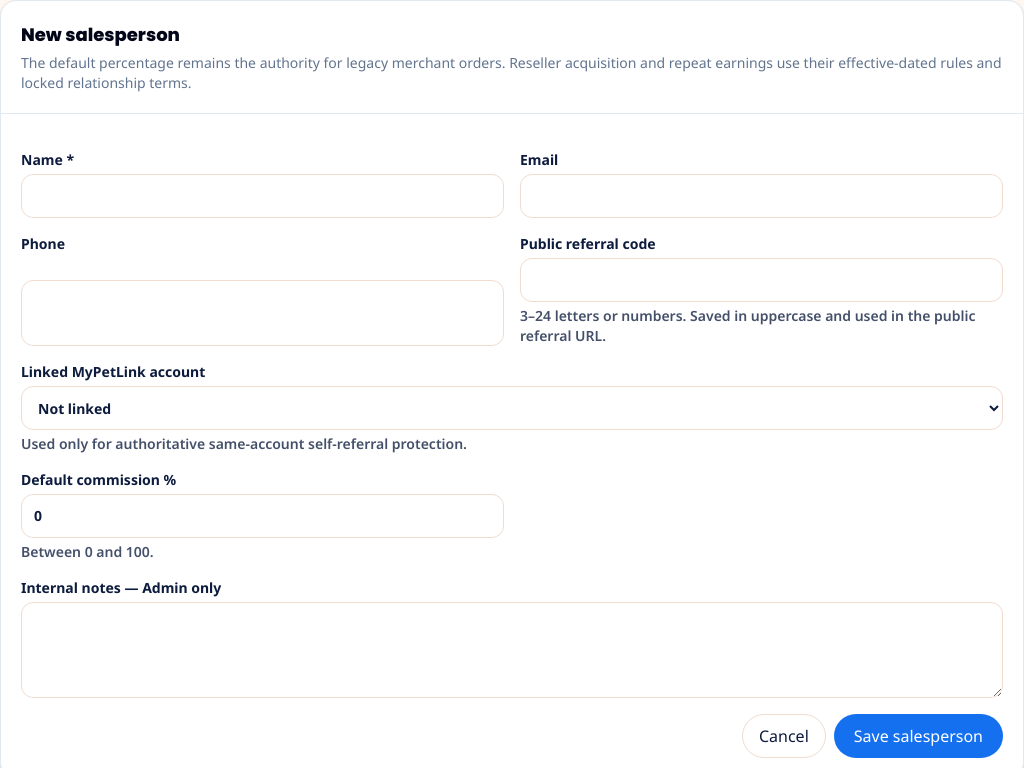
Salesperson editor › asks for the name in plain words when the server rejects it
Type "Pat Lee" into the field labelled "Name *" at (262, 196), box [21,174,504,218]
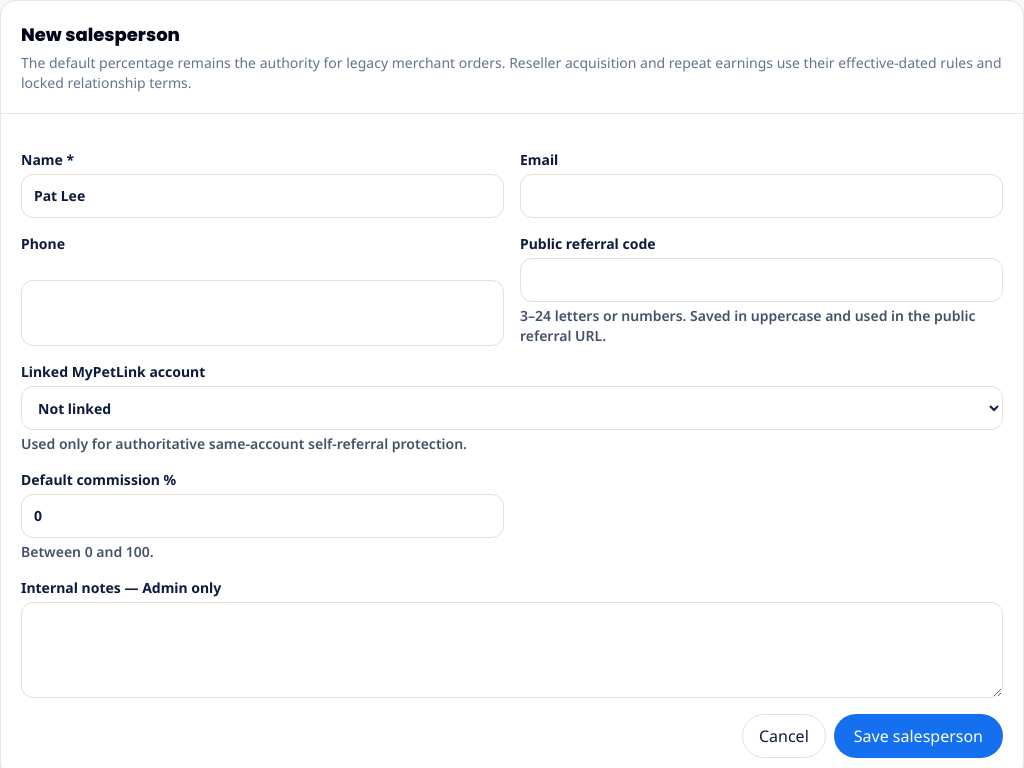
Click the button with test id "save-salesperson" at (918, 736), box [834,714,1003,758]
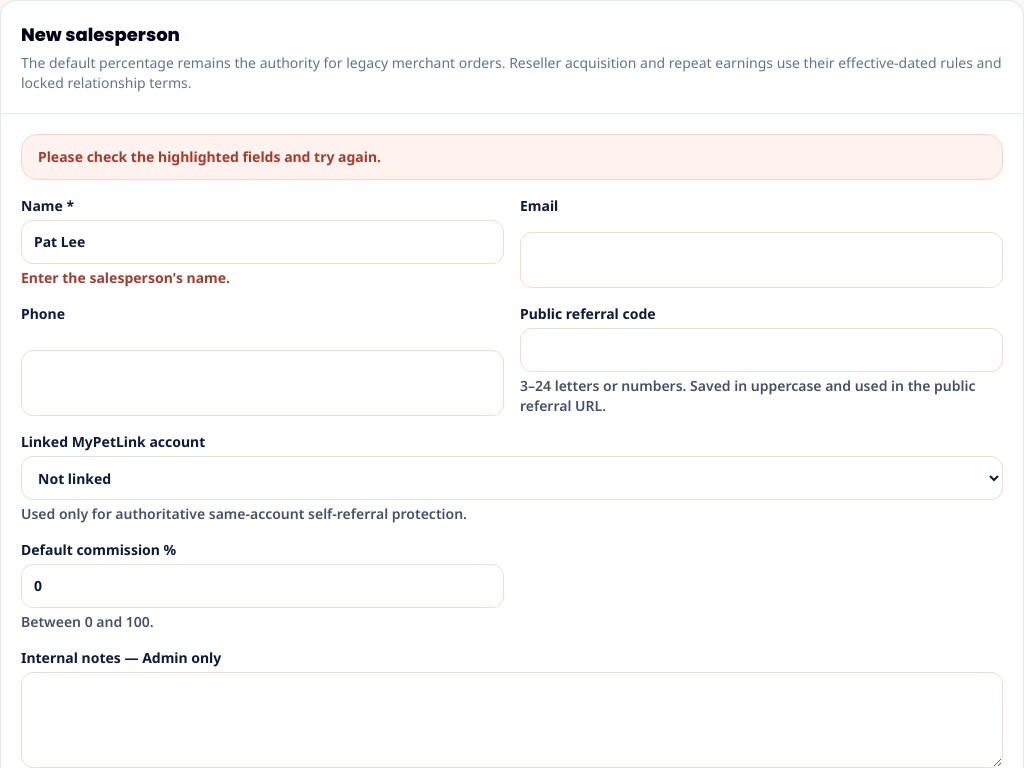
Now the text "Enter the salesperson's name." is shown, box [21,268,230,287]
